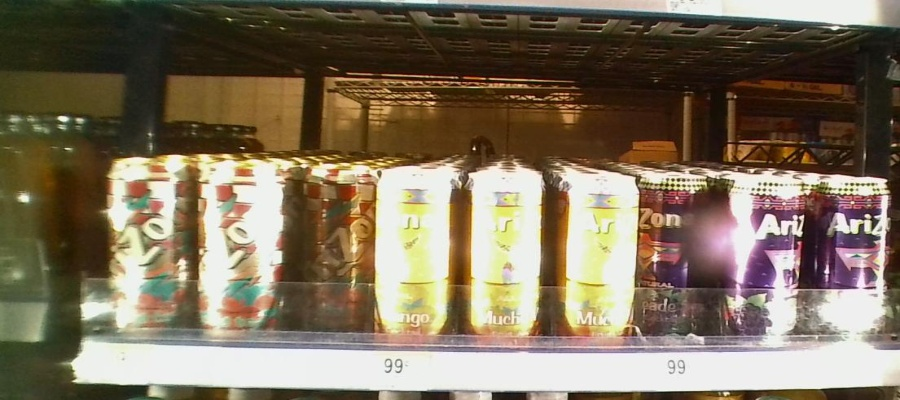bottle: (99, 134, 198, 335), (718, 158, 813, 341), (457, 159, 550, 342), (552, 156, 639, 348), (292, 150, 374, 343), (201, 154, 284, 337), (377, 152, 454, 342), (815, 159, 893, 344), (641, 162, 712, 350)
